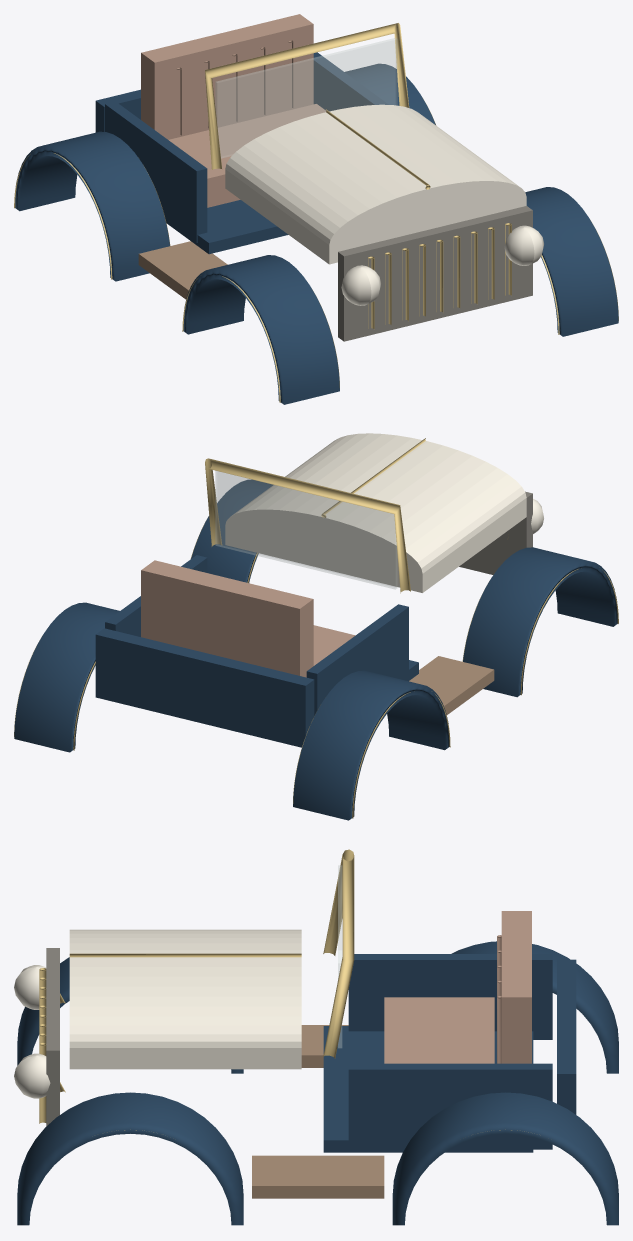
File: car_tray_plumage.glb
3 renders of one model, top to bottom at view 1: azimuth 30°, elevation 25°; view 2: azimuth 150°, elevation 25°; view 3: azimuth 270°, elevation 25°, orthographic. The views are drawn at different scales.
Visible parts, largest first — view 1: Car_Fenders, Car_Hood, Car_Padded_Seat, Car_Front_Grille, Car_Coachwork, Car_Windshield, Car_Windshield_Frame, Car_Grille_Bars, Car_Running_Boards, Car_Headlamps; view 2: Car_Fenders, Car_Hood, Car_Coachwork, Car_Padded_Seat, Car_Windshield, Car_Windshield_Frame, Car_Running_Boards, Car_Front_Grille; view 3: Car_Hood, Car_Coachwork, Car_Fenders, Car_Padded_Seat, Car_Running_Boards, Car_Windshield_Frame, Car_Front_Grille, Car_Headlamps, Car_Grille_Bars.
Boxes of the visible parts, x1=… form: Car_Fenders: x1=14, y1=63, x2=618, y2=404; Car_Hood: x1=225, y1=104, x2=526, y2=264; Car_Padded_Seat: x1=141, y1=14, x2=325, y2=207; Car_Front_Grille: x1=338, y1=206, x2=532, y2=341; Car_Coachwork: x1=95, y1=52, x2=388, y2=254; Car_Windshield: x1=215, y1=38, x2=397, y2=158; Car_Windshield_Frame: x1=205, y1=23, x2=409, y2=169; Car_Grille_Bars: x1=368, y1=223, x2=511, y2=329; Car_Running_Boards: x1=138, y1=241, x2=227, y2=299; Car_Headlamps: x1=341, y1=225, x2=543, y2=305; Car_Fenders: x1=14, y1=479, x2=618, y2=820; Car_Hood: x1=225, y1=433, x2=526, y2=592; Car_Coachwork: x1=95, y1=555, x2=418, y2=747; Car_Padded_Seat: x1=141, y1=560, x2=355, y2=677; Car_Windshield: x1=215, y1=471, x2=397, y2=589; Car_Windshield_Frame: x1=205, y1=458, x2=410, y2=593; Car_Running_Boards: x1=409, y1=656, x2=494, y2=714; Car_Front_Grille: x1=459, y1=491, x2=532, y2=574; Car_Hood: x1=69, y1=929, x2=301, y2=1069; Car_Coachwork: x1=323, y1=954, x2=576, y2=1152; Car_Fenders: x1=17, y1=941, x2=618, y2=1225; Car_Padded_Seat: x1=384, y1=911, x2=531, y2=1063; Car_Running_Boards: x1=252, y1=1025, x2=384, y2=1198; Car_Windshield_Frame: x1=323, y1=849, x2=354, y2=1058; Car_Front_Grille: x1=46, y1=948, x2=59, y2=1126; Car_Headlamps: x1=14, y1=965, x2=65, y2=1098; Car_Grille_Bars: x1=39, y1=968, x2=46, y2=1123.
Size of the model in its own units: 0.3318 by 0.1953 by 0.4603.
